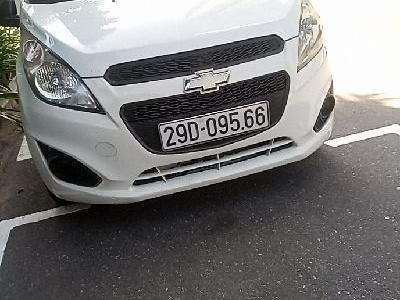number: (161, 103, 269, 150)
